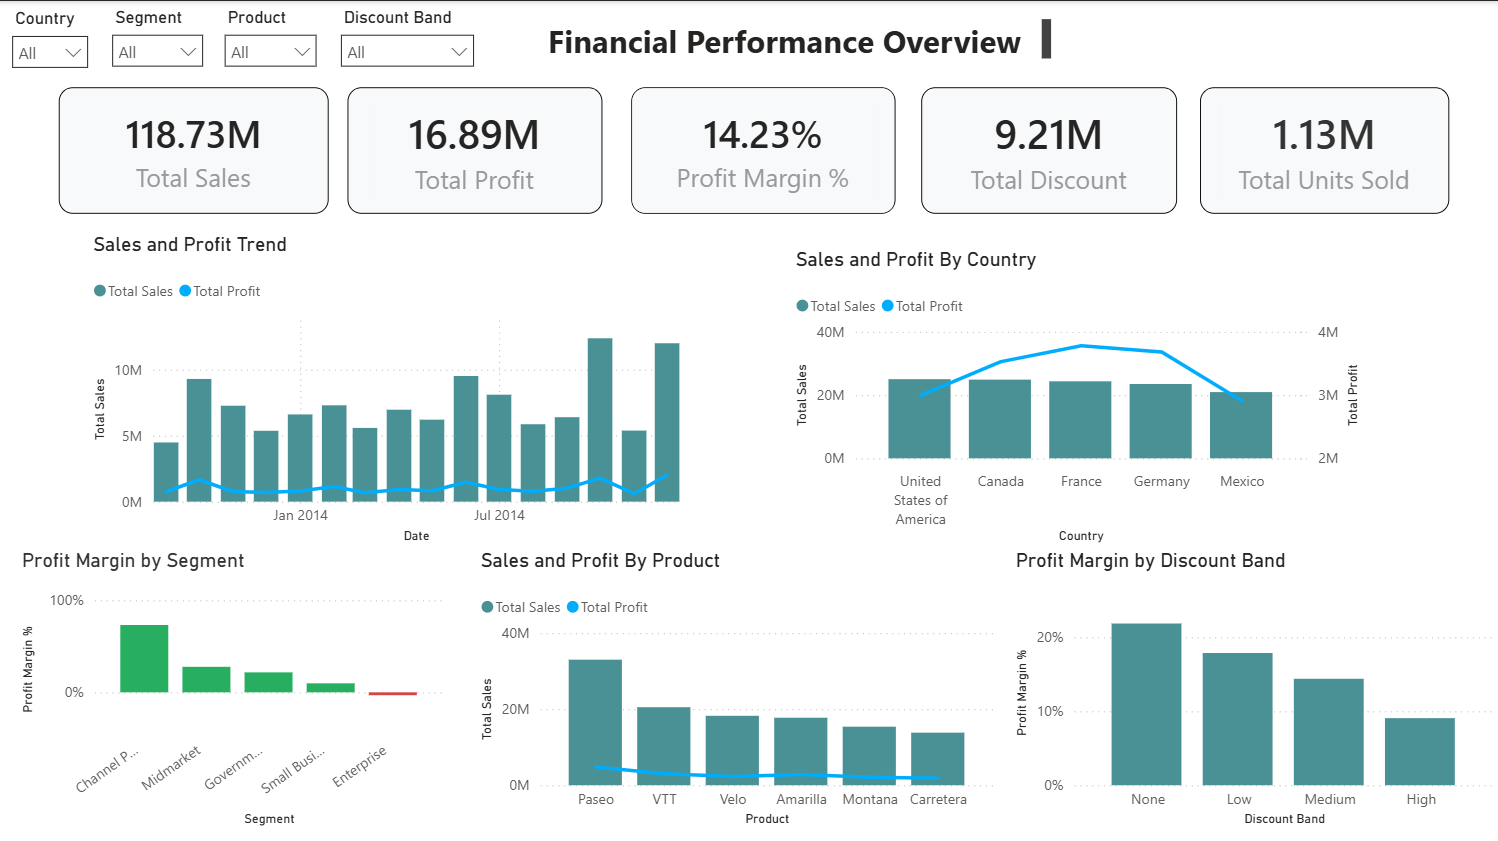

Layout of this report page (visuals, bound fields, positions):
{"tool":"powerbi","page":{"name":"Financial Performance Overview","canvas":[1280,720],"ordinal":0},"visuals":[{"type":"cardVisual","fields":{"Data":["FinancialData.Total Sales"]},"box":[50,73.3,230.2,108.1],"z":0},{"type":"lineClusteredColumnComboChart","title":"Sales and Profit Trend","fields":{"Category":["FinancialData.Date"],"Y":["FinancialData.Total Sales"],"Y2":["FinancialData.Total Profit"]},"box":[74.4,197.7,524.4,269.8],"z":1000},{"type":"lineClusteredColumnComboChart","title":"Sales and Profit By Country","fields":{"Category":["FinancialData.Country"],"Y":["FinancialData.Total Sales"],"Y2":["FinancialData.Total Profit"]},"box":[674.4,210.5,491.9,257],"z":2000},{"type":"clusteredColumnChart","title":"Profit Margin by Segment","fields":{"Category":["FinancialData.Segment"],"Y":["FinancialData.Profit Margin %"]},"box":[14,467.4,369.8,241.9],"z":3000},{"type":"lineClusteredColumnComboChart","title":"Sales and Profit By Product","fields":{"Category":["FinancialData.Product"],"Y":["FinancialData.Total Sales"],"Y2":["FinancialData.Total Profit"]},"box":[405.8,467.4,447.7,241.9],"z":4000},{"type":"clusteredColumnChart","title":"Profit Margin by Discount Band","fields":{"Y":["FinancialData.Profit Margin %"],"Category":["FinancialData.Discount Band"]},"box":[861.6,467.4,418.6,241.9],"z":5000},{"type":"textbox","box":[446.5,10.5,455.8,44.2],"z":6000},{"type":"cardVisual","fields":{"Data":["FinancialData.Total Profit"]},"box":[296.5,73.3,217.4,108.1],"z":7000},{"type":"cardVisual","fields":{"Data":["FinancialData.Profit Margin %"]},"box":[538.4,73.3,225.6,108.1],"z":8000},{"type":"cardVisual","fields":{"Data":["FinancialData.Total Discount"]},"box":[786,73.3,218.6,108.1],"z":9000},{"type":"cardVisual","fields":{"Data":["FinancialData.Total Units Sold"]},"box":[1024.4,73.3,212.8,108.1],"z":10000},{"type":"slicer","fields":{"Values":["FinancialData.Country"]},"box":[0,1.2,84.9,65.1],"z":11000},{"type":"slicer","fields":{"Values":["FinancialData.Segment"]},"box":[84.9,0,97.7,65.1],"z":12000},{"type":"slicer","fields":{"Values":["FinancialData.Product"]},"box":[181.4,0,98.8,65.1],"z":13000},{"type":"slicer","fields":{"Values":["FinancialData.Discount Band"]},"box":[280.2,0,133.7,67.4],"z":14000}]}

Visuals, with their boxes in screenshot pixels (x1, y1, x2, y2), scaled from the page's 1280x720 canvas onto the 1498x841 screenshot:
cardVisual - FinancialData.Total Sales: <region>59, 86, 328, 212</region>
"Sales and Profit Trend" lineClusteredColumnComboChart: <region>87, 231, 701, 546</region>
"Sales and Profit By Country" lineClusteredColumnComboChart: <region>789, 246, 1365, 546</region>
"Profit Margin by Segment" clusteredColumnChart: <region>16, 546, 449, 829</region>
"Sales and Profit By Product" lineClusteredColumnComboChart: <region>475, 546, 999, 829</region>
"Profit Margin by Discount Band" clusteredColumnChart: <region>1008, 546, 1497, 829</region>
textbox: <region>523, 12, 1056, 64</region>
cardVisual - FinancialData.Total Profit: <region>347, 86, 601, 212</region>
cardVisual - FinancialData.Profit Margin %: <region>630, 86, 894, 212</region>
cardVisual - FinancialData.Total Discount: <region>920, 86, 1176, 212</region>
cardVisual - FinancialData.Total Units Sold: <region>1199, 86, 1448, 212</region>
slicer - FinancialData.Country: <region>0, 1, 99, 77</region>
slicer - FinancialData.Segment: <region>99, 0, 214, 76</region>
slicer - FinancialData.Product: <region>212, 0, 328, 76</region>
slicer - FinancialData.Discount Band: <region>328, 0, 484, 79</region>
